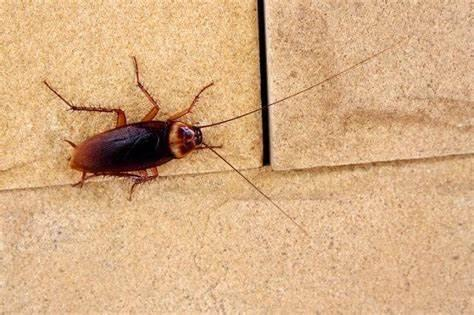cockroach: (61, 108, 209, 184)
